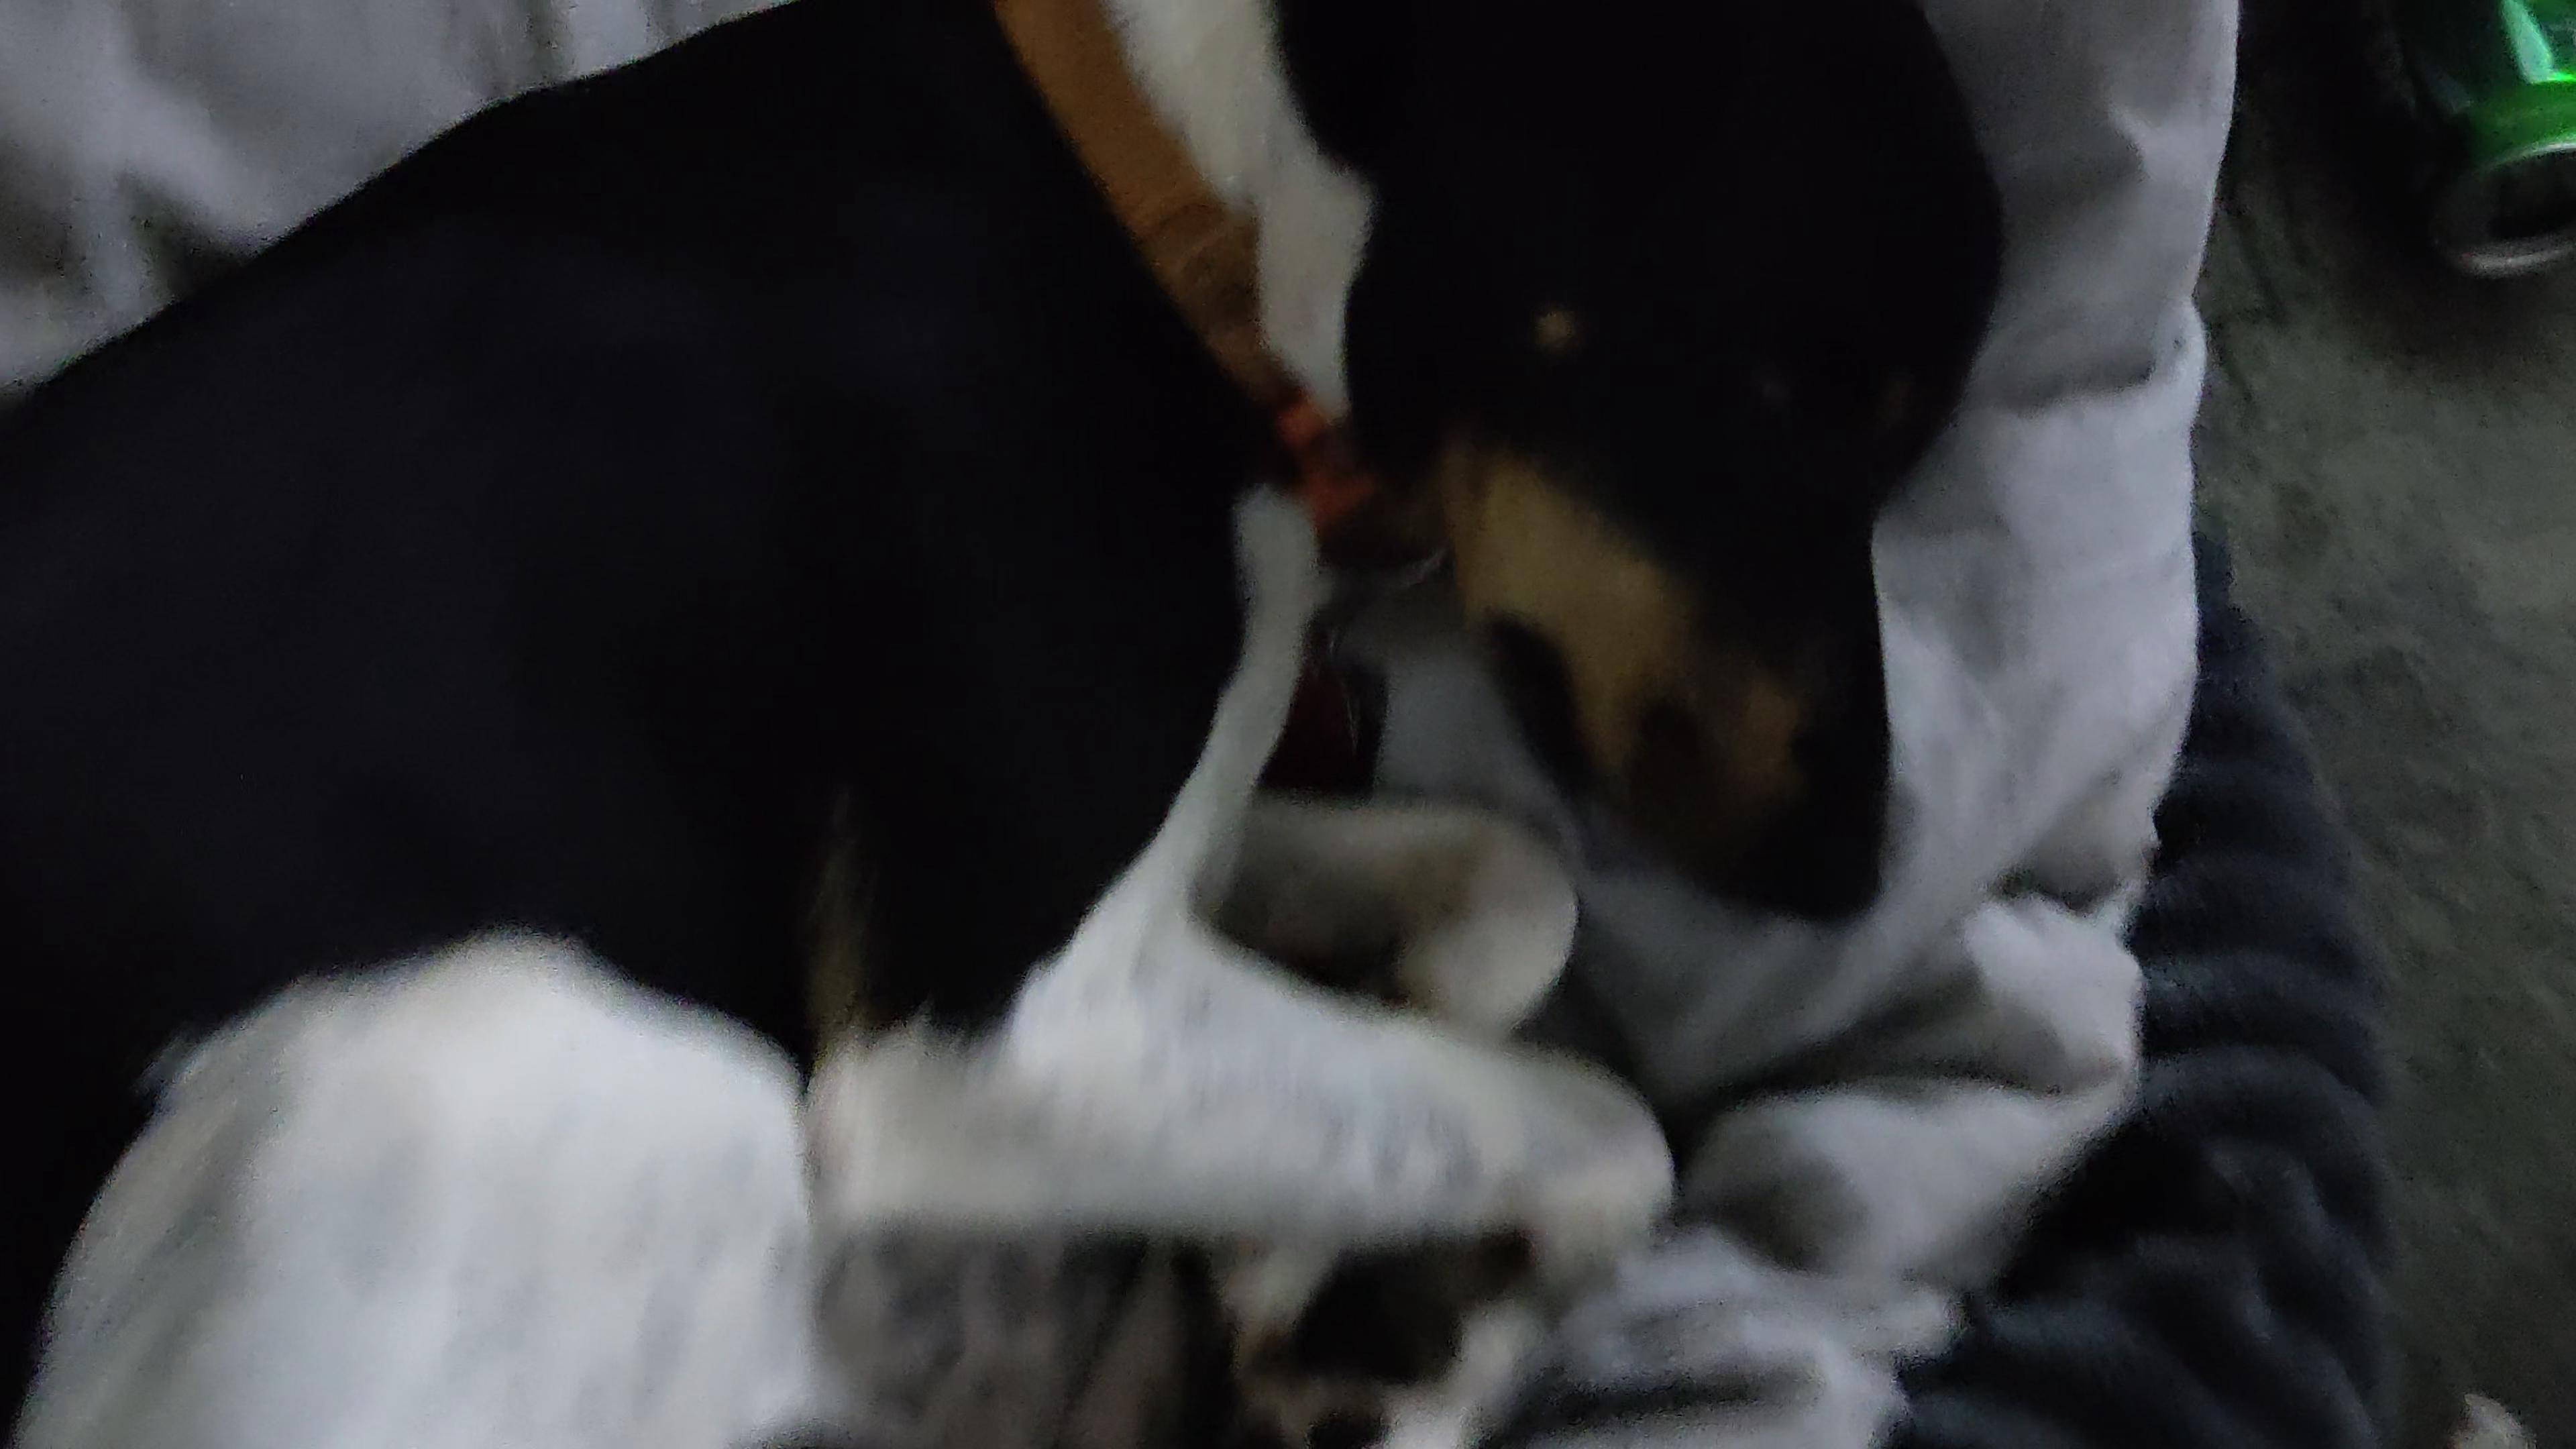Dog: (0, 0, 2024, 1449)
